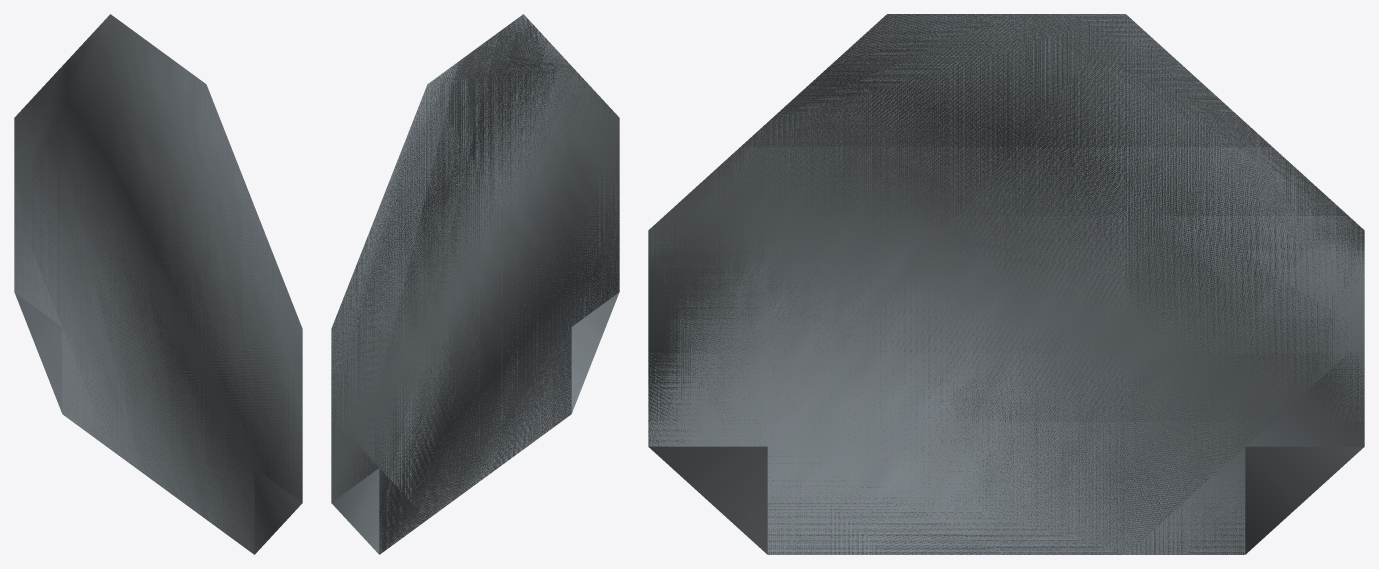
3 renders of one model, left to right at view 1: azimuth 30°, elevation 25°; view 2: azimuth 150°, elevation 25°; view 3: azimuth 270°, elevation 25°, orthographic. The views are drawn at different scales.
Size of the model in its own units: 0 by 0.4 by 0.48.
Materials: 1 (1 with a texture image).
